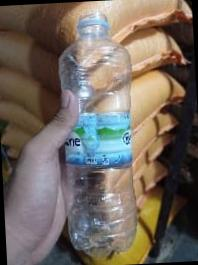Plastik: (59, 11, 136, 256)
